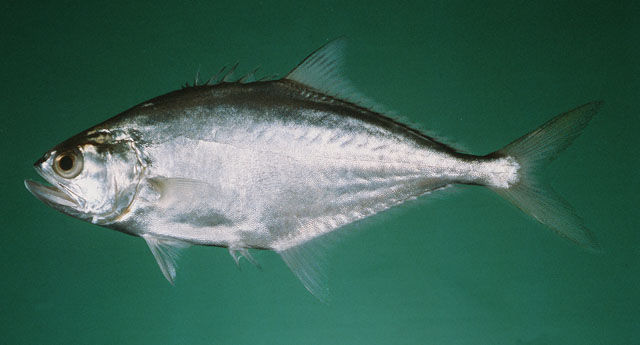fish: (20, 35, 607, 308)
